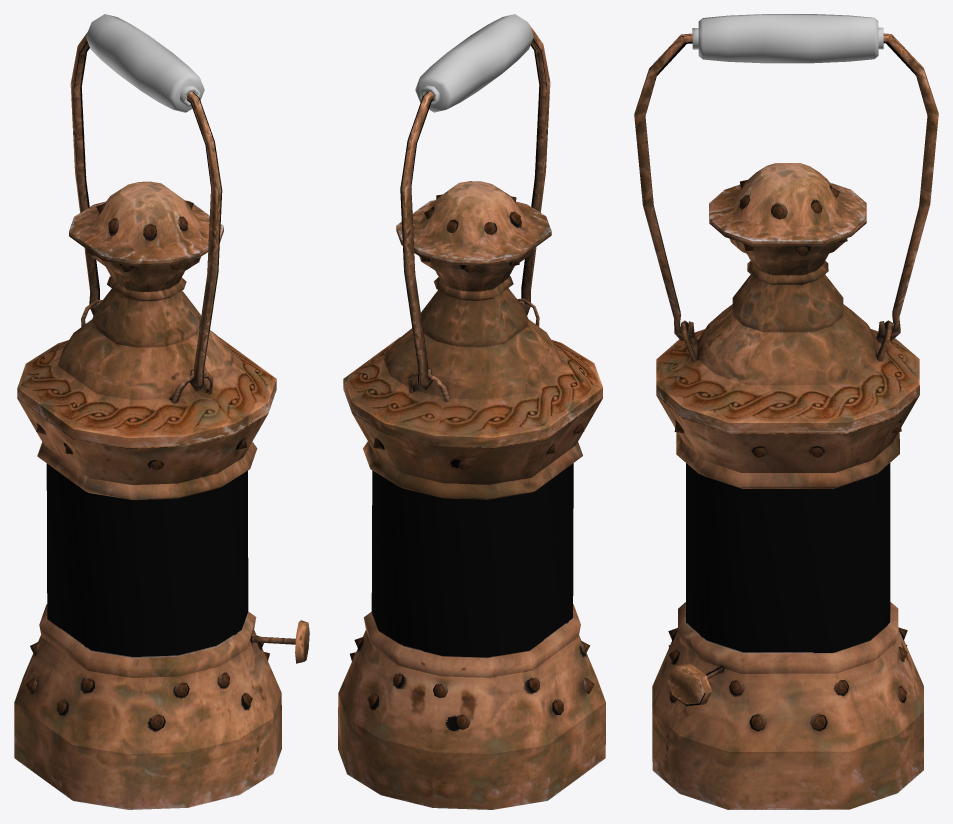
Rendered from hand_lantern_alpha.dae.
The picture shows the model from 3 angles, left to right: view 1: azimuth 30°, elevation 25°; view 2: azimuth 150°, elevation 25°; view 3: azimuth 270°, elevation 25°; orthographic projection. The views are drawn at different scales.
Parts seen in each view (by area): view 1: lantern, handle_wood; view 2: lantern, handle_wood; view 3: lantern, handle_wood.
Boxes of the visible parts, x1=… form: lantern: x1=14, y1=32, x2=309, y2=809; handle_wood: x1=86, y1=14, x2=204, y2=112; lantern: x1=338, y1=23, x2=605, y2=809; handle_wood: x1=415, y1=14, x2=533, y2=112; lantern: x1=634, y1=33, x2=938, y2=809; handle_wood: x1=692, y1=14, x2=883, y2=63.
Bounding box in the file's own units: 0.0633 × 0.1885 × 0.0702.
